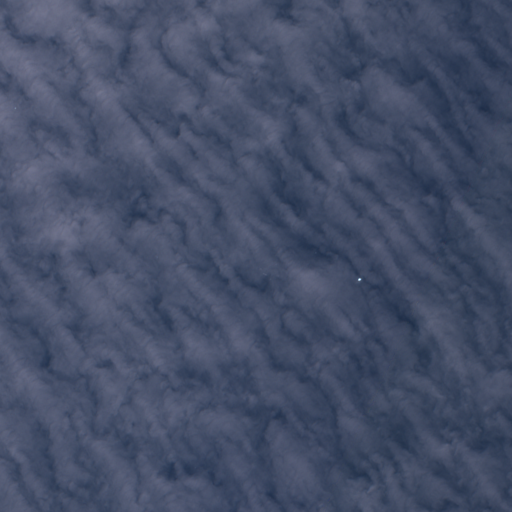Iceberg: (358, 278, 361, 280)
